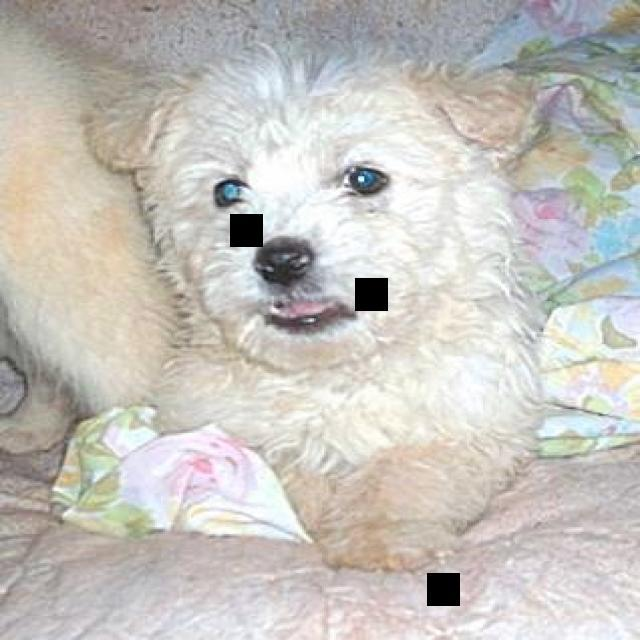puppy-dog: (86, 41, 557, 574)
